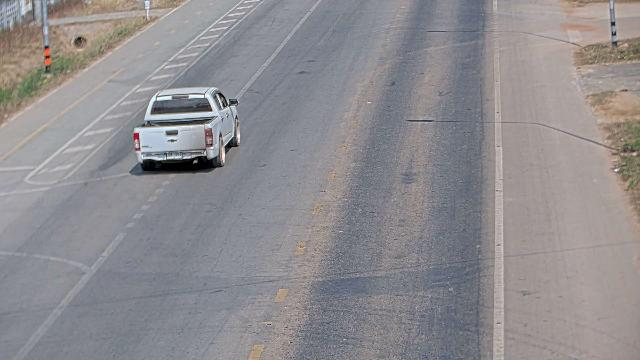pickup-truck: (132, 86, 241, 171)
